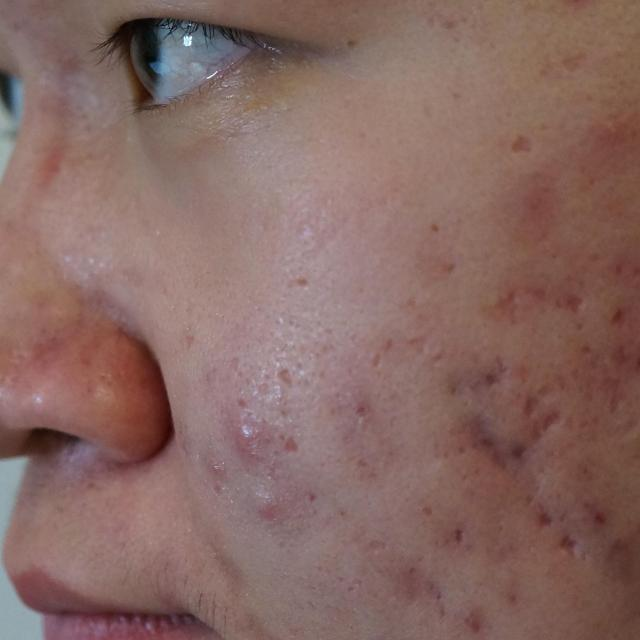nodule: (236, 422, 261, 449), (256, 494, 279, 518)
